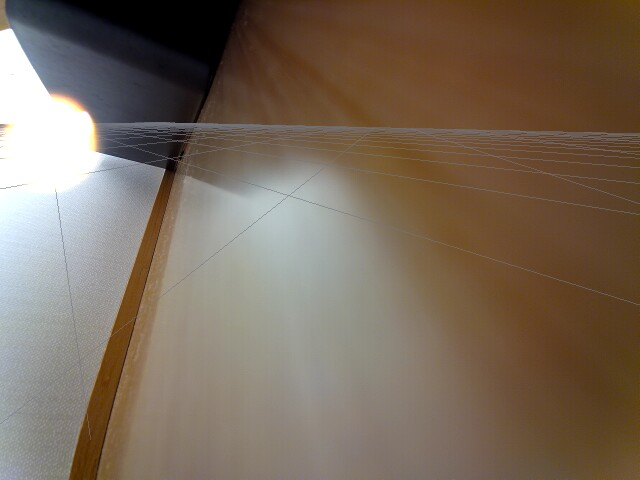fire: (7, 90, 99, 192)
